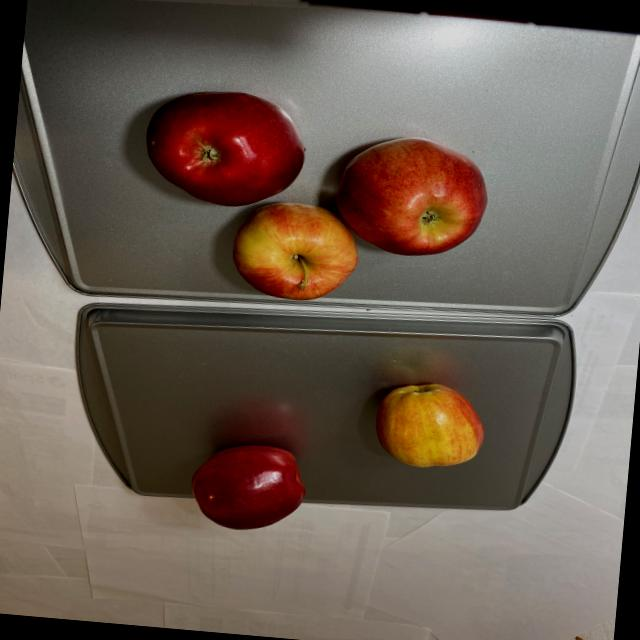apple: (128, 85, 494, 314), (186, 438, 312, 536), (370, 377, 490, 473)
